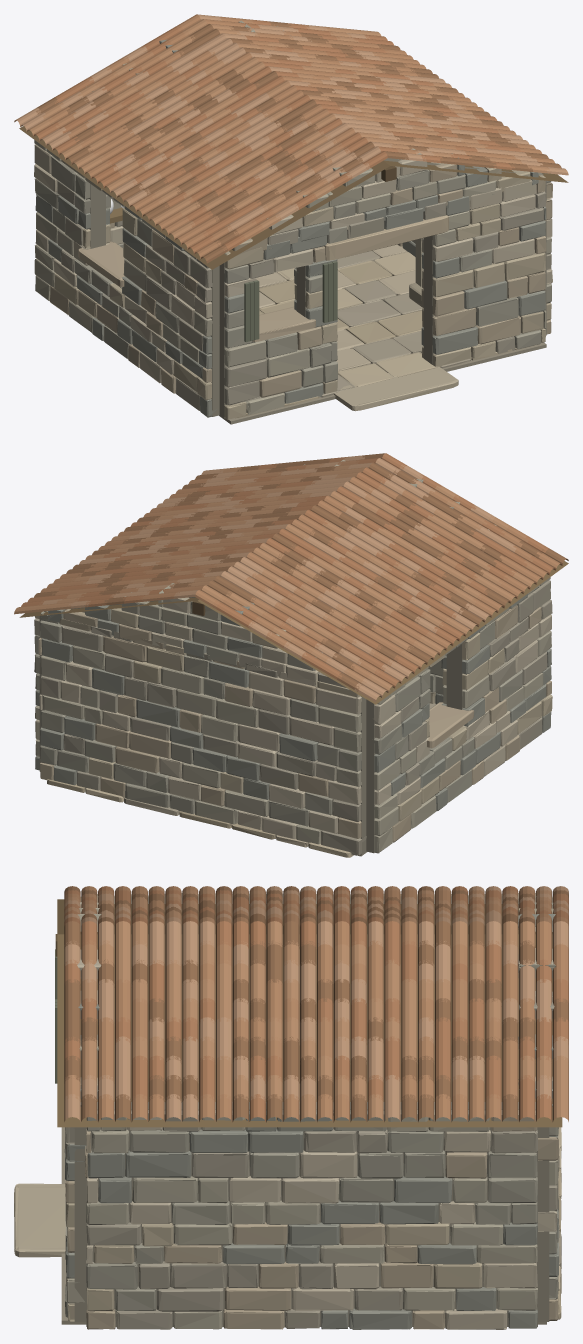
File: Maison_Corse_Accueil.fbx
The picture shows the model from 3 angles, top to bottom: view 1: azimuth 30°, elevation 25°; view 2: azimuth 150°, elevation 25°; view 3: azimuth 270°, elevation 25°; orthographic projection. The views are drawn at different scales.
Visible parts, largest first — view 1: Maconnerie, Tuiles, Dallage, Charpente_Mobilier, Joints; view 2: Maconnerie, Tuiles, Joints, Charpente_Mobilier, Dallage; view 3: Tuiles, Maconnerie, Charpente_Mobilier, Joints, Dallage.
Boxes of the visible parts, bbox=[...] form: Maconnerie: bbox=[34, 20, 552, 419]; Tuiles: bbox=[14, 14, 568, 263]; Dallage: bbox=[219, 244, 546, 424]; Charpente_Mobilier: bbox=[19, 126, 568, 342]; Joints: bbox=[89, 158, 546, 418]; Maconnerie: bbox=[34, 459, 552, 855]; Tuiles: bbox=[14, 453, 568, 702]; Joints: bbox=[39, 597, 463, 854]; Charpente_Mobilier: bbox=[19, 561, 568, 704]; Dallage: bbox=[47, 703, 435, 857]; Tuiles: bbox=[64, 886, 568, 1122]; Maconnerie: bbox=[64, 893, 559, 1329]; Charpente_Mobilier: bbox=[55, 899, 562, 1127]; Joints: bbox=[74, 896, 549, 1326]; Dallage: bbox=[14, 1127, 561, 1324].
Bounding box in the file's own units: 714 × 437 × 725.
